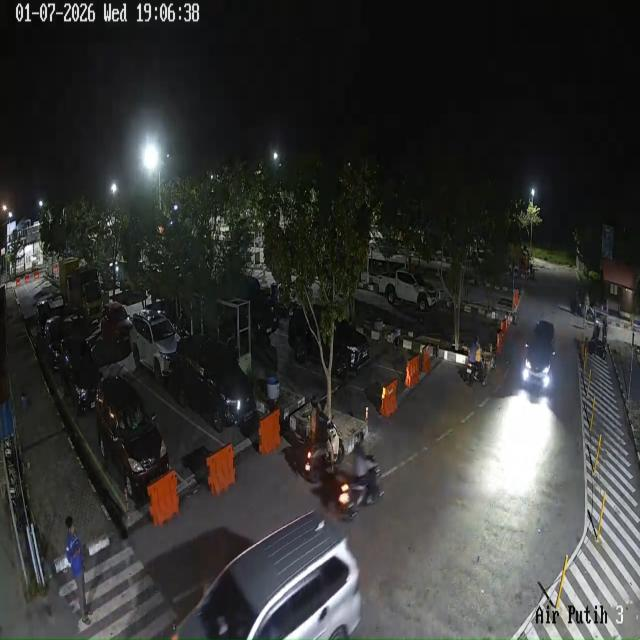Golongan IVA: (172, 511, 362, 639), (96, 376, 169, 499), (170, 334, 258, 434), (288, 306, 369, 380), (129, 309, 179, 381), (60, 335, 101, 415), (523, 321, 555, 388), (100, 301, 132, 344), (43, 316, 65, 370)
Golongan IVB: (376, 270, 439, 311)
Golongan VB: (59, 258, 108, 321)
